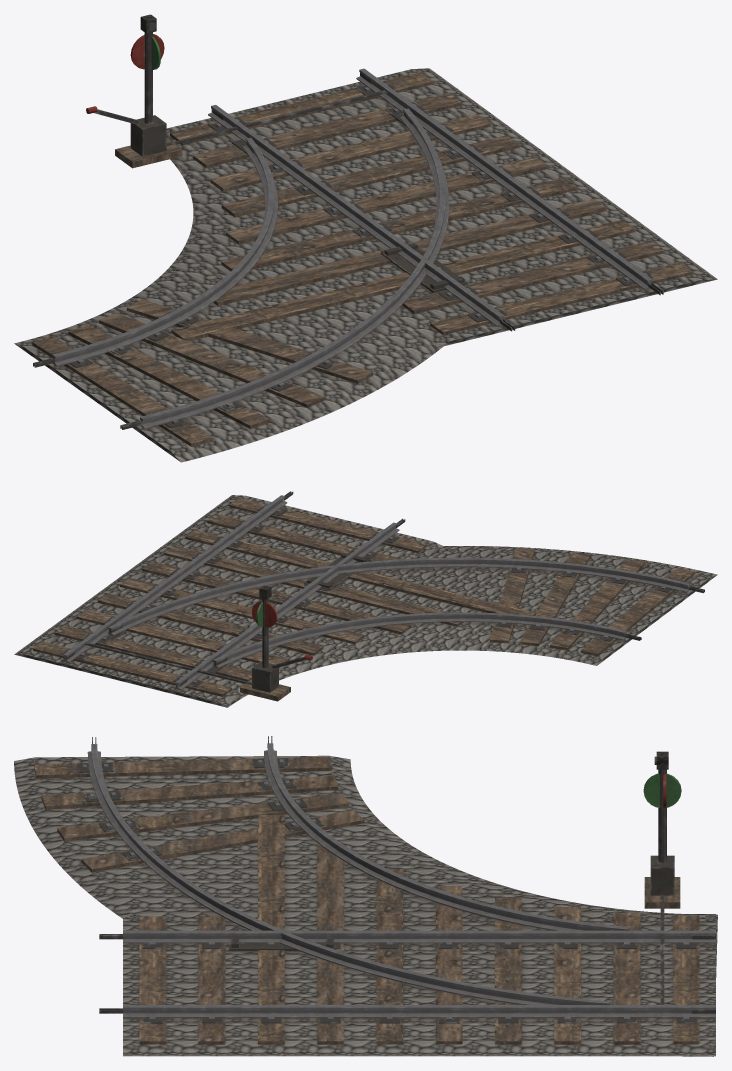
File: feRailSwitchR_HD.fbx
3 renders of one model, top to bottom at view 1: azimuth 30°, elevation 25°; view 2: azimuth 150°, elevation 25°; view 3: azimuth 270°, elevation 25°, orthographic. The views are drawn at different scales.
Parts seen in each view (by area): view 1: feRailSwitchR_Track; view 2: feRailSwitchR_Track; view 3: feRailSwitchR_Track.
Part boxes in pixels (x1,y1,x2,y2): feRailSwitchR_Track: (14,14,717,462); feRailSwitchR_Track: (14,491,717,707); feRailSwitchR_Track: (14,736,717,1056).
Bounding box in the file's own units: 6.13 × 1.38 × 5.94.
1 material, 1 textured.
